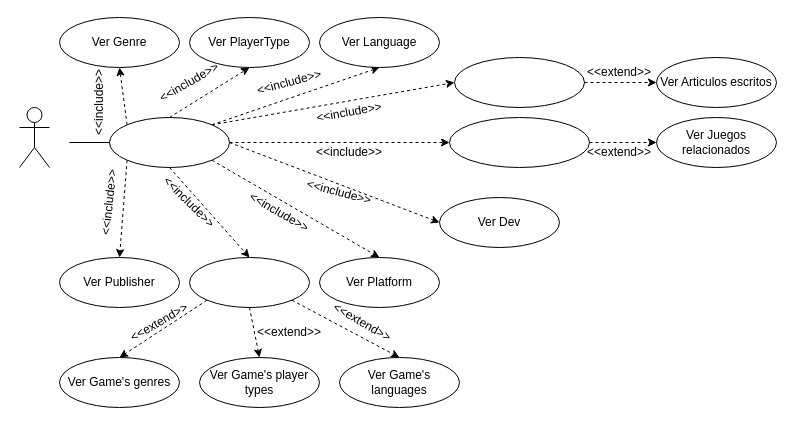
Image size: 794x425. Some labels were removed from this diagram. Each missing label, with the centre of its shape:
Author: the point at 34,137
Loguearse: the point at 169,142
Ver Game: the point at 249,282
Ver y Actualizar Author: the point at 519,82
Ver, Crear y Actualizar Articles: the point at 519,142
